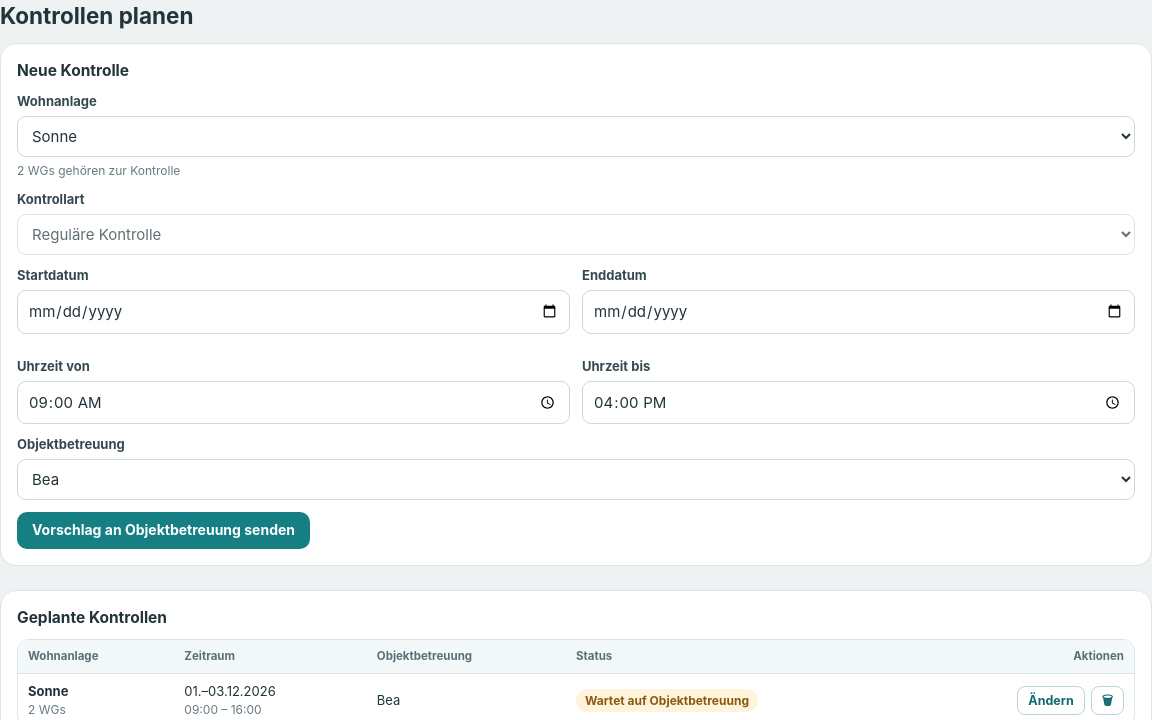
Test case: withdraws a proposal after confirming the dialog
The image size is (1152, 720).
Click the button named "Vorschlag für Sonne zurückziehen" at (1107, 700), box [1091,686,1124,715]
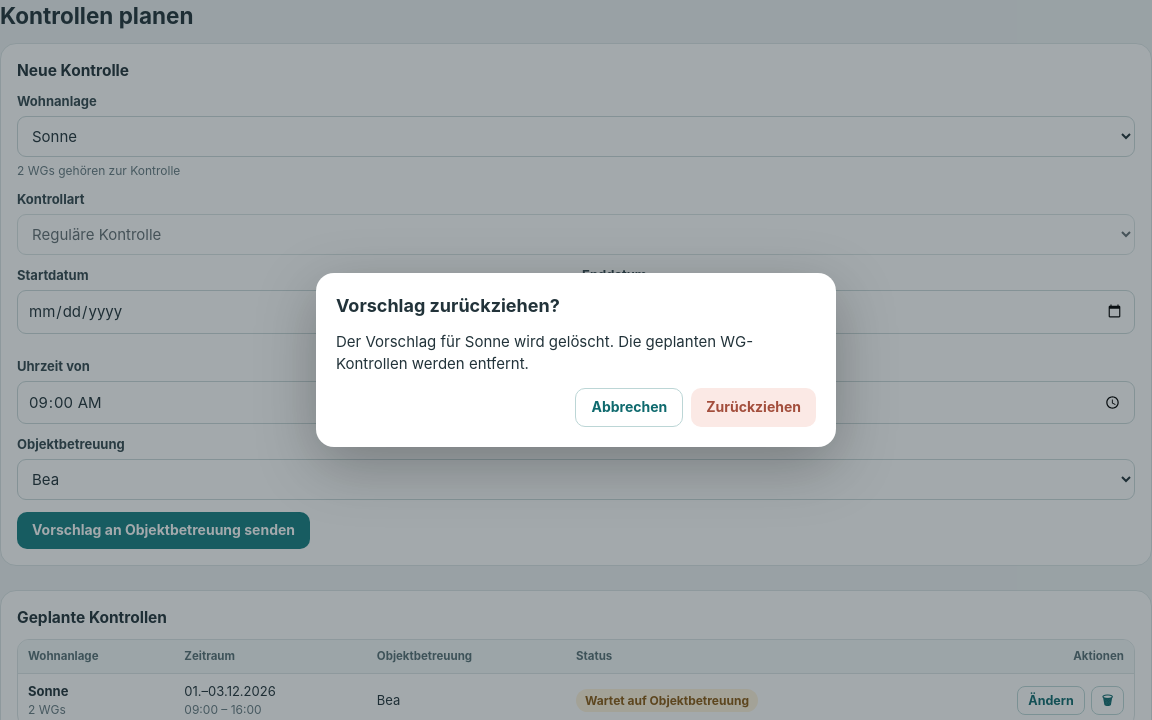
Check: the text "Der Vorschlag für Sonne wird gelöscht. Die geplanten WG-Kontrollen werden entfernt." is shown, box [336,332,753,373]
Click the button "Zurückziehen" at (754, 408), box [691,388,816,427]
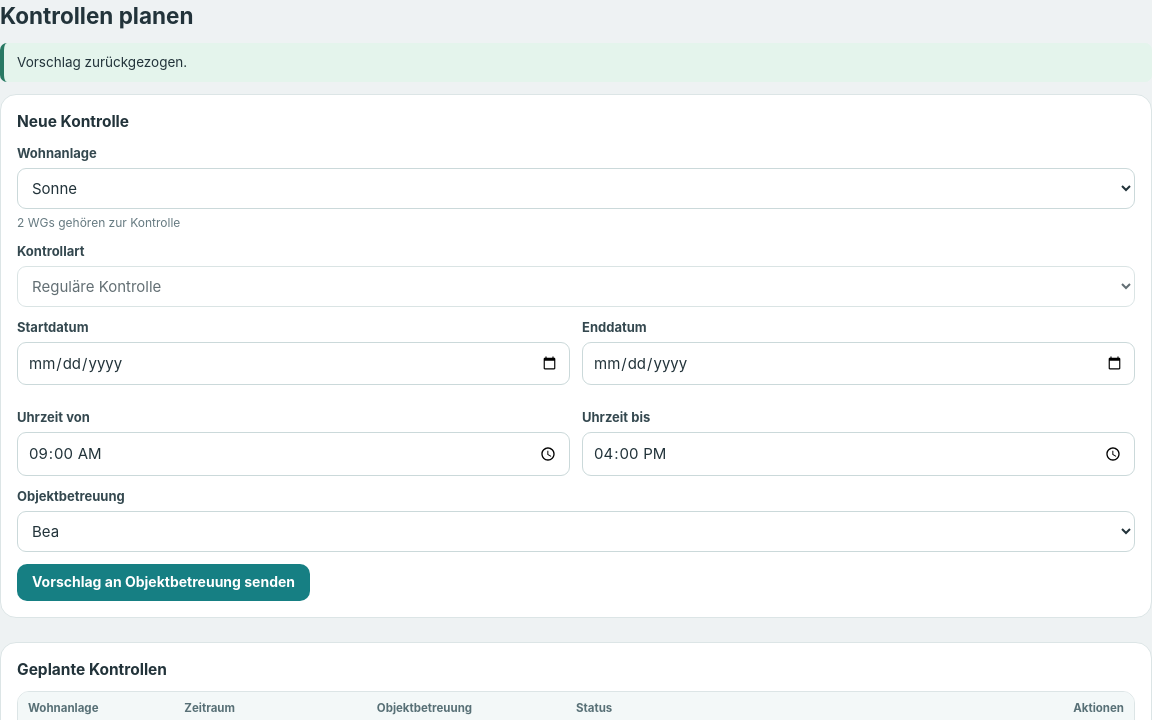
Check: the message reads "Vorschlag zurückgezogen.", box [17,54,187,70]
